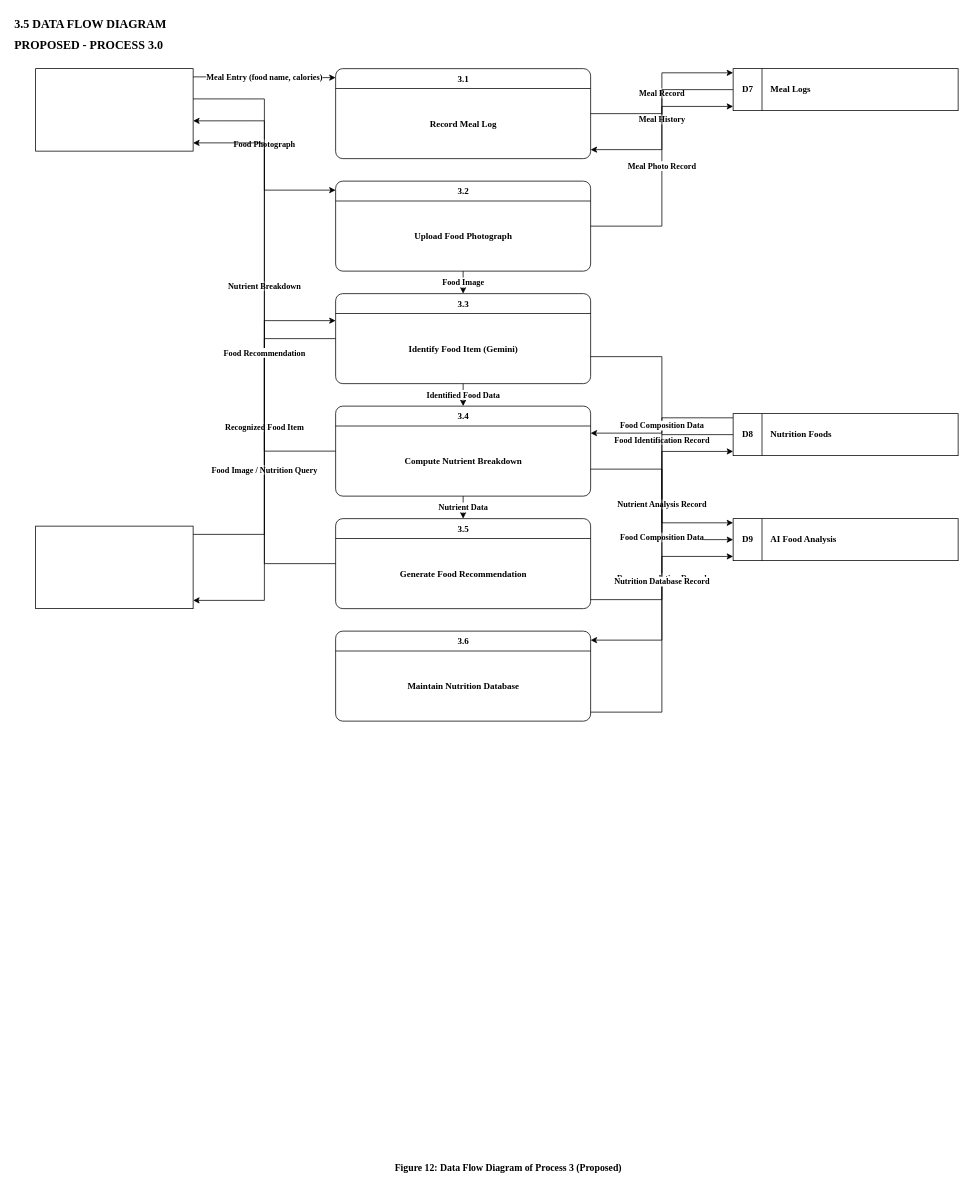
The diagram is 971 pixels wide and 1191 high, and some of its shapes have lost their labels. Each missing label, with the centre of its shape:
"GOOGLE GEMINI API" goes at point (114, 567).
"MEMBER" goes at point (114, 109).
